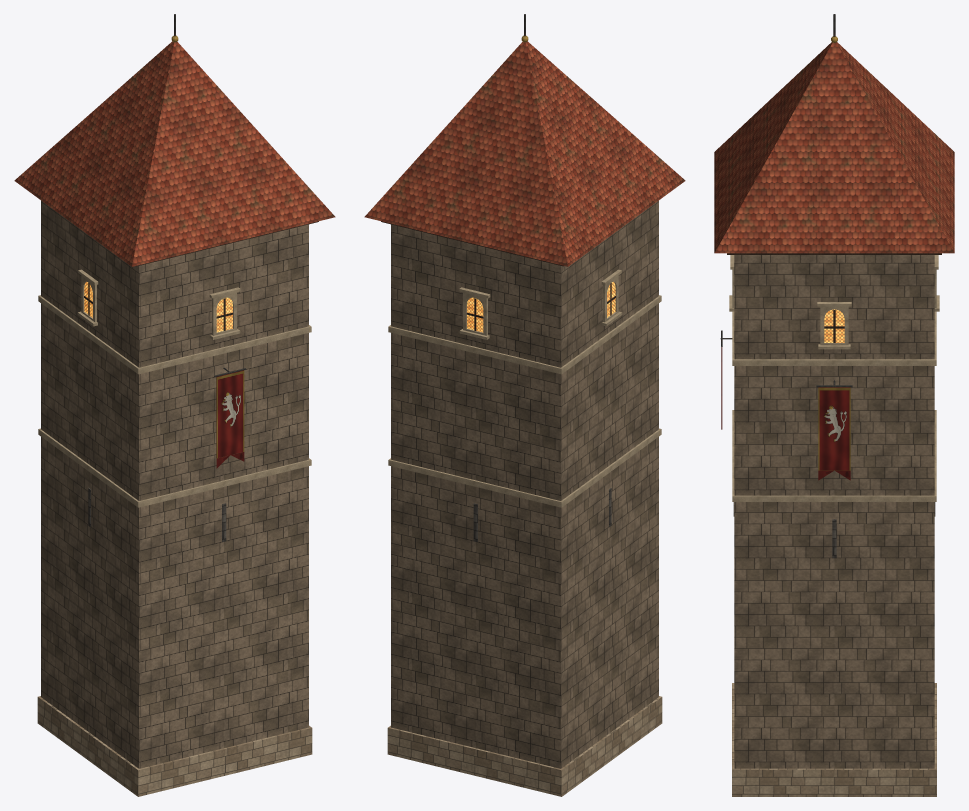
File: fortress_tower.gltf
3 views of the same model, side by side, from view 1: azimuth 30°, elevation 25°; view 2: azimuth 150°, elevation 25°; view 3: azimuth 270°, elevation 25° (orthographic). The views are drawn at different scales.
Visible parts, largest first — view 1: fortress_tower_mesh; view 2: fortress_tower_mesh; view 3: fortress_tower_mesh.
Boxes of the visible parts, x1,y1,x2,y2 form: fortress_tower_mesh: [14, 14, 335, 796]; fortress_tower_mesh: [364, 14, 685, 796]; fortress_tower_mesh: [714, 14, 954, 796].
Size of what is drawn, in the model's own units: 9.6 by 32.6 by 9.6.
Materials: 11 (11 with a texture image).
